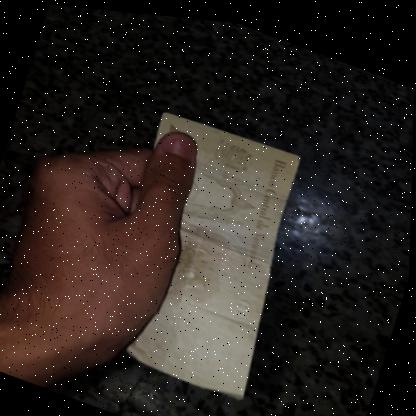five-back-vef: (92, 98, 316, 400)
